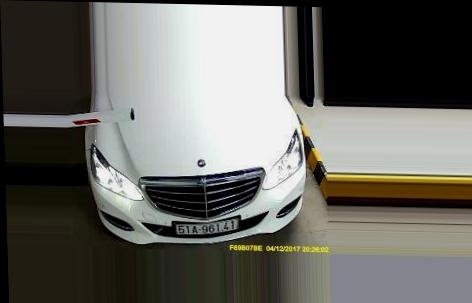License_Plate: (175, 220, 240, 237)
